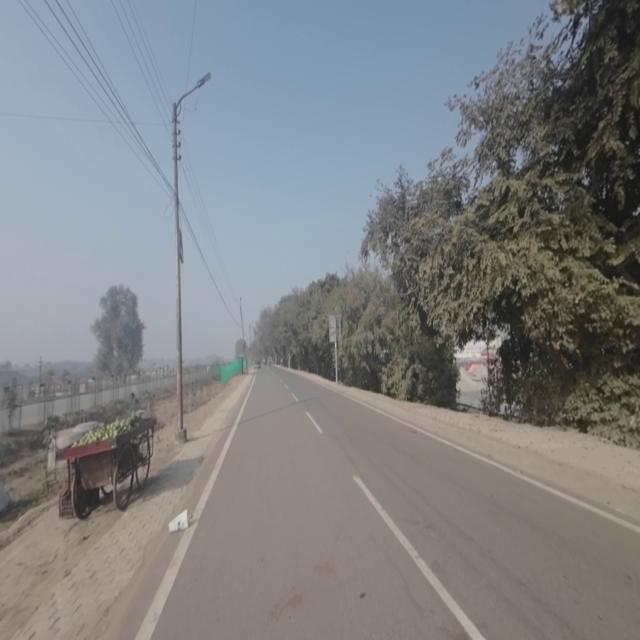Garbage: (165, 504, 191, 538)
